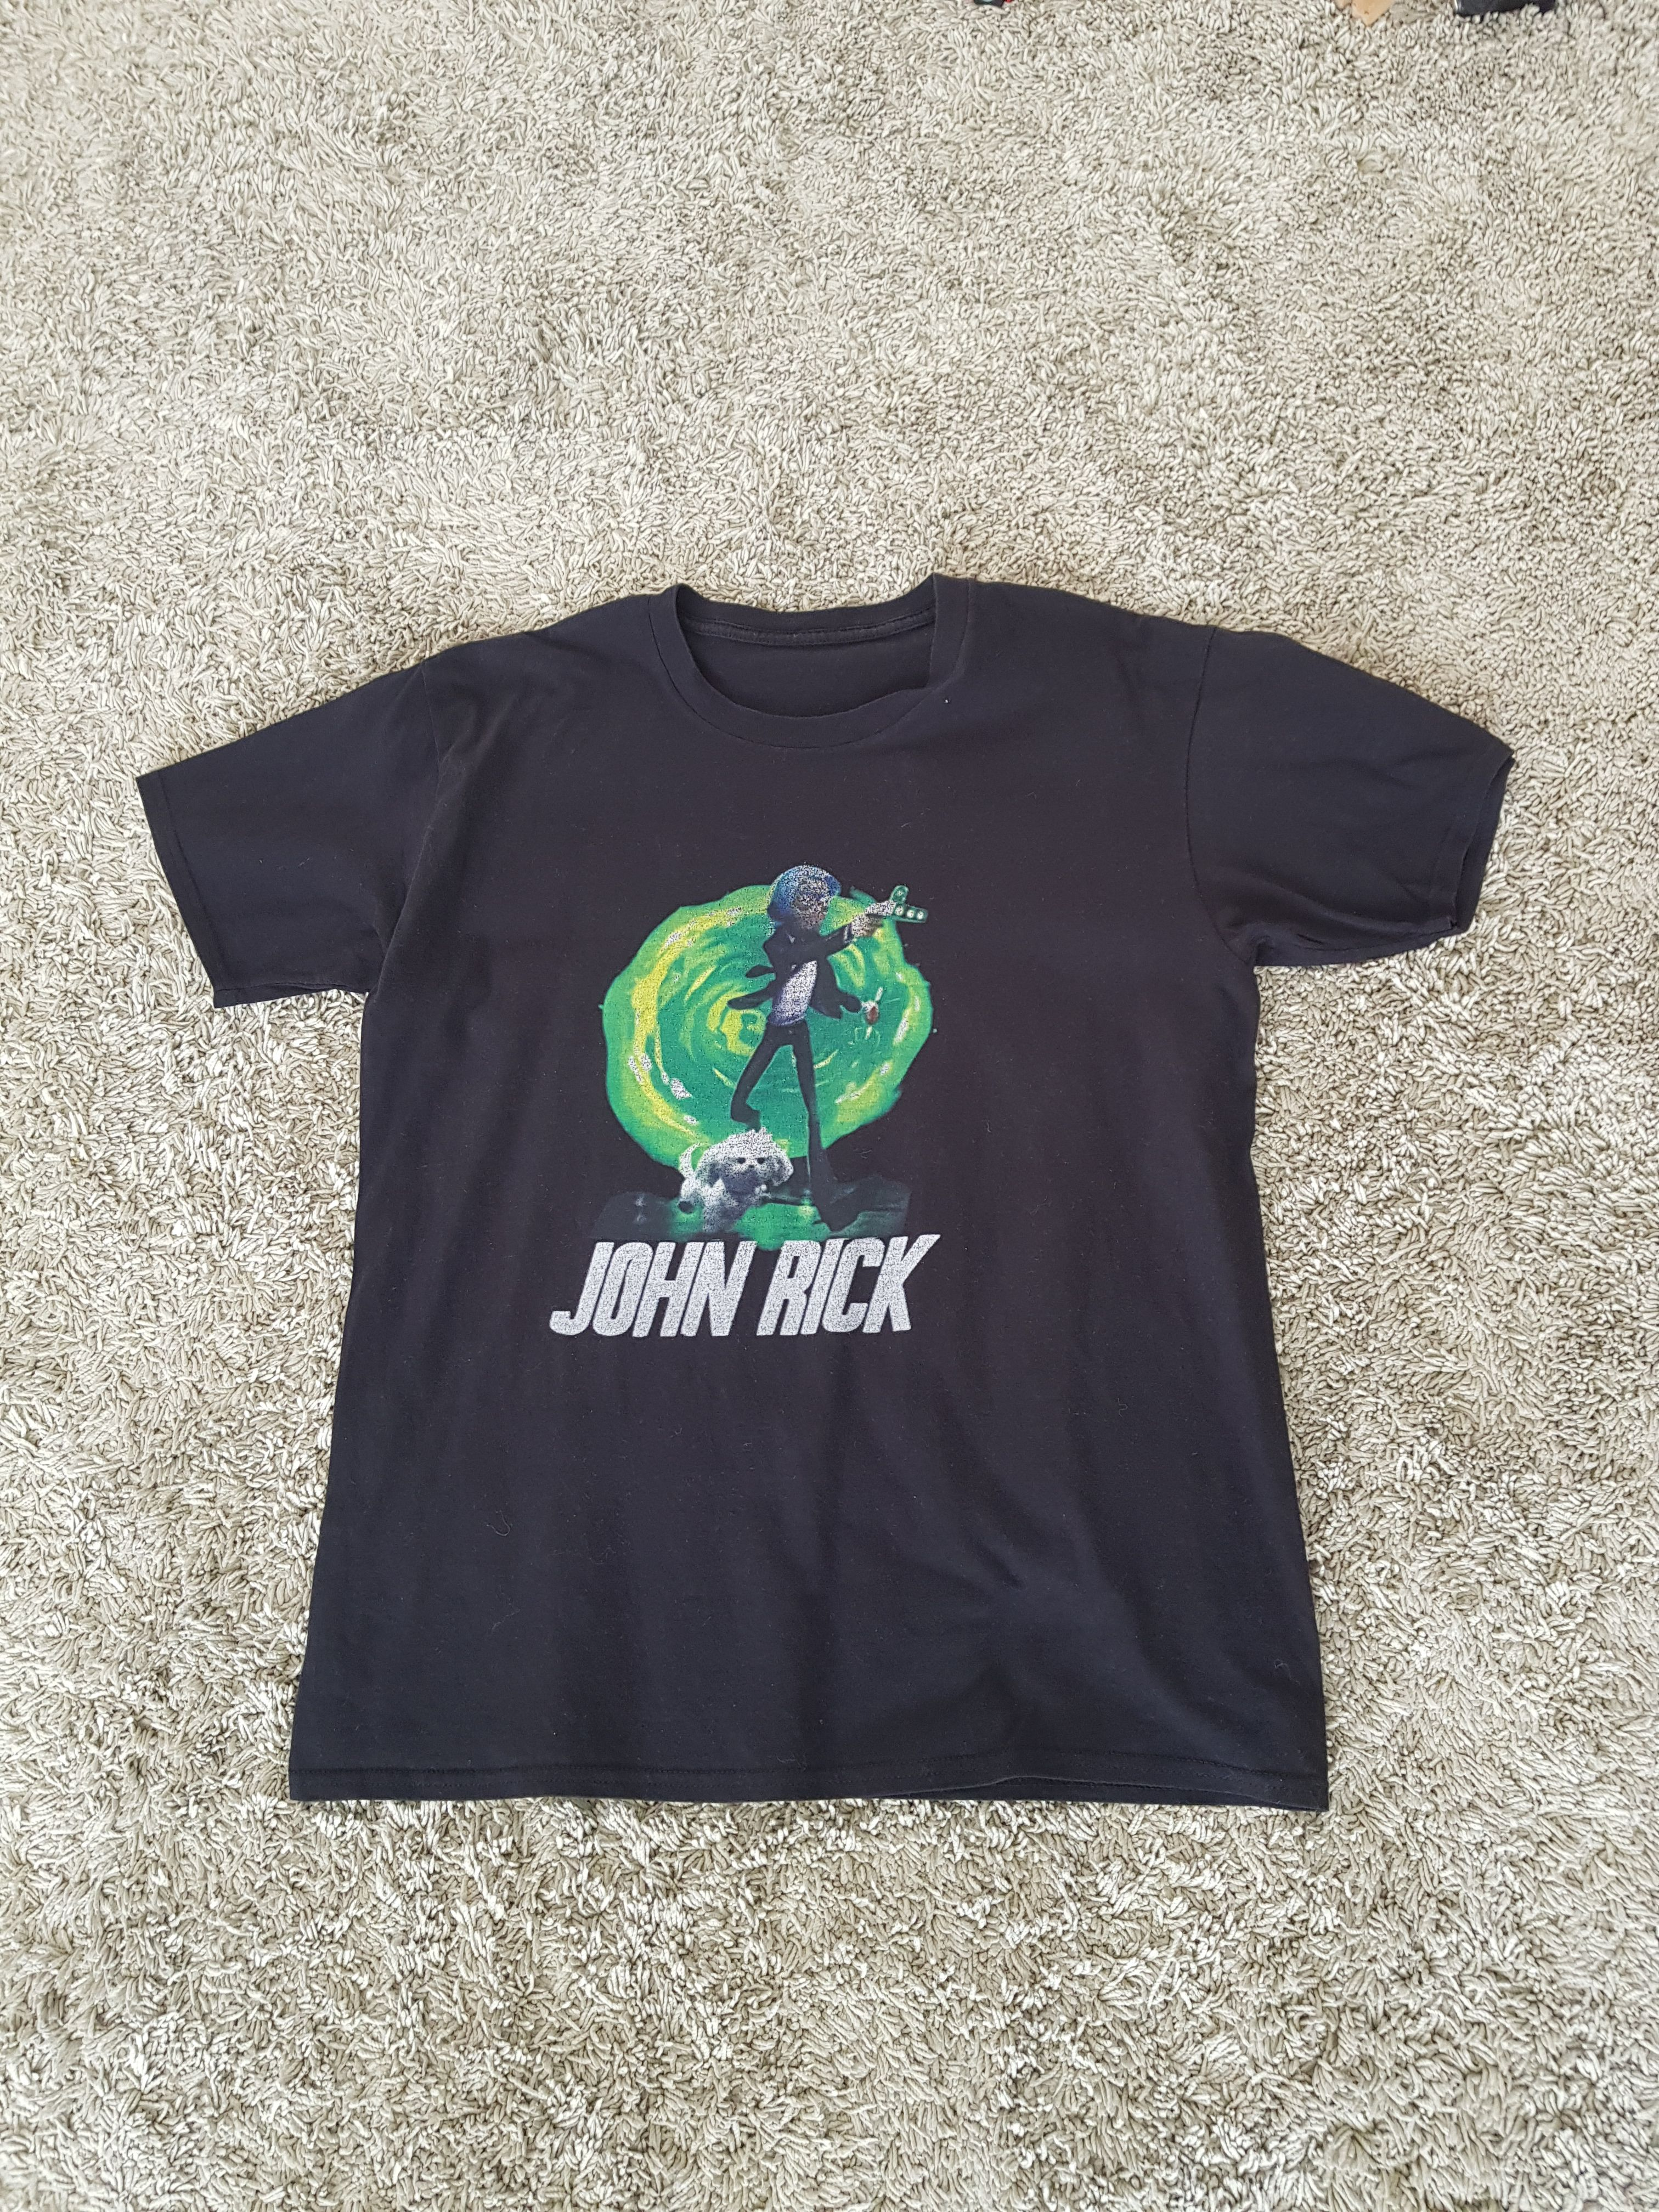clothes: (108, 566, 1539, 1829)
